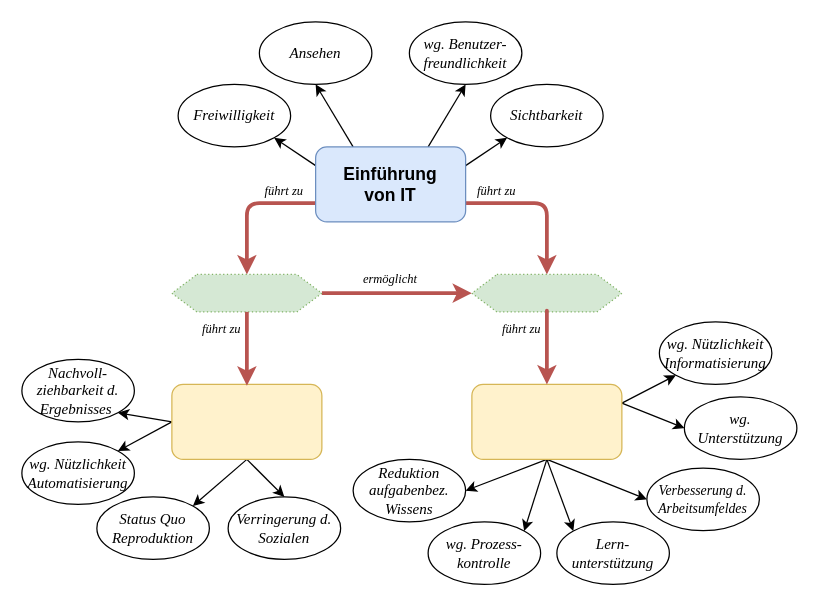
This 819x606 diagram has some shape labels left out. The centre of each missing label's shape, as x and y in pixels:
Automatisierung: the point at 246,292
Effekte der Automatisierung: the point at 246,421
Effekte der Informatisierung: the point at 546,421
Informatisierung: the point at 546,292
